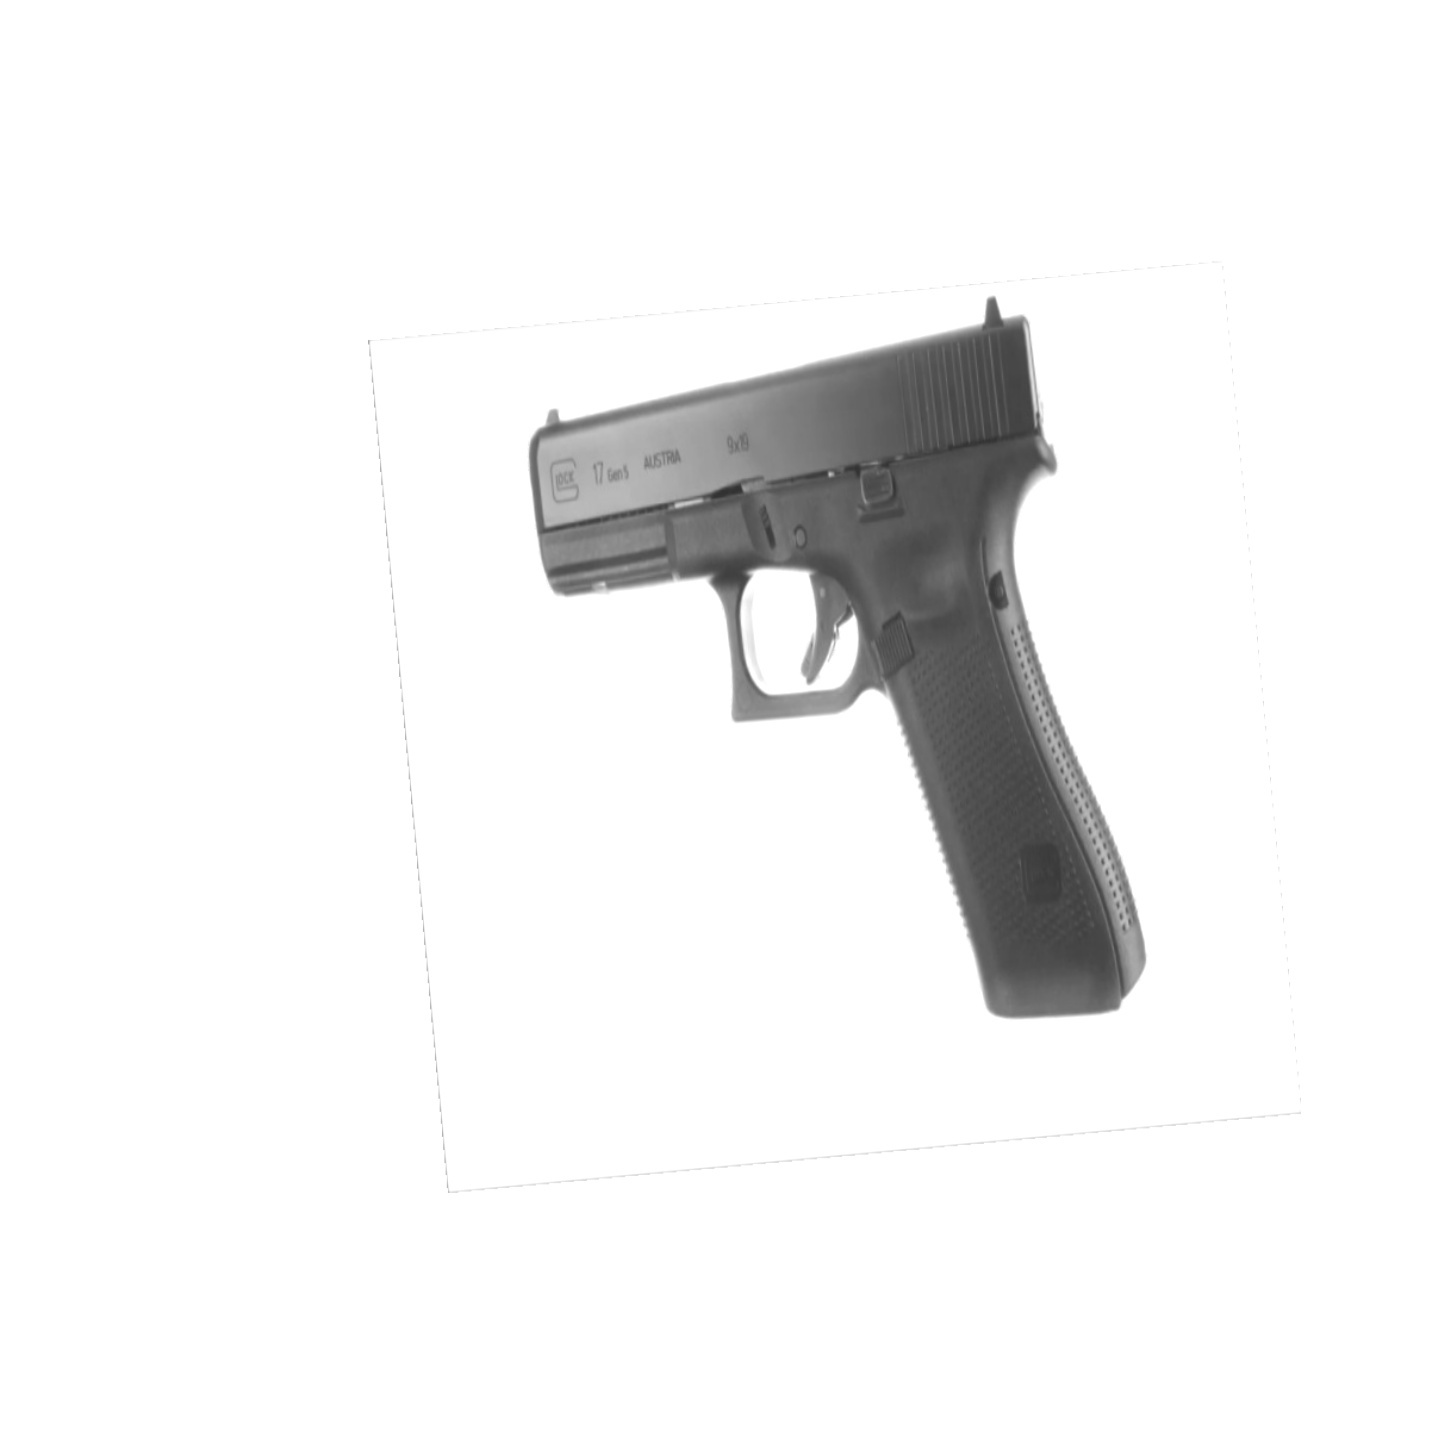gun: (510, 290, 1169, 1034)
